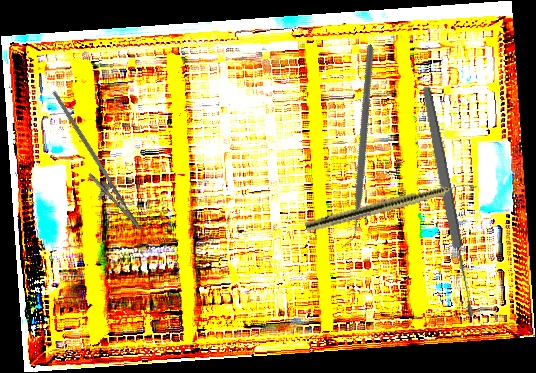Chopper: (265, 43, 448, 249)
Handpiece: (304, 176, 478, 235)
Needle Holder: (28, 90, 157, 239)
Surgical Spoon: (419, 84, 478, 319)
